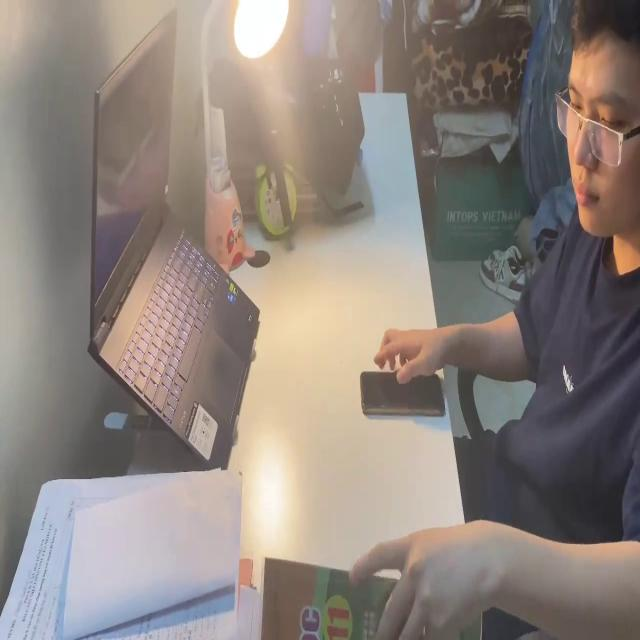book: (0, 464, 240, 640), (246, 551, 482, 640)
laptop: (84, 1, 260, 467)
phone: (358, 366, 447, 418)
student: (354, 0, 640, 640)
